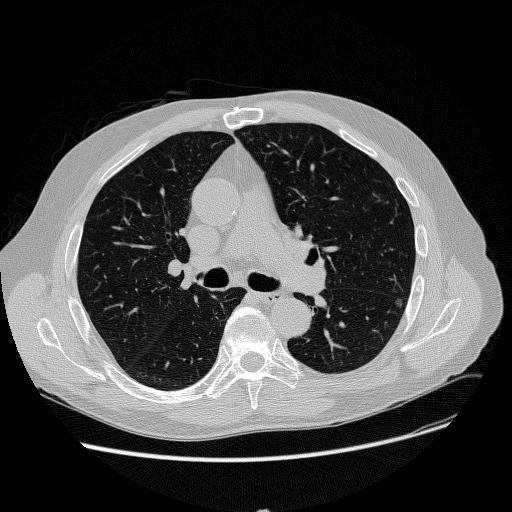nodule: (392, 297, 405, 310)
